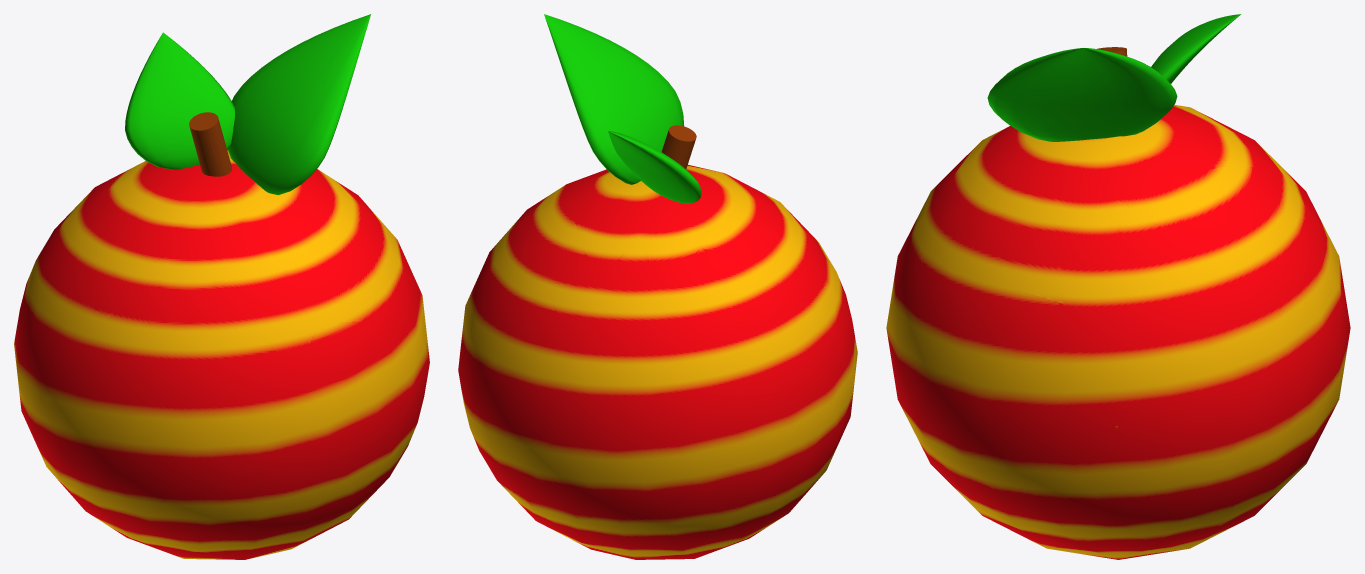
Rendered from fruit.fbx.
The picture shows the model from 3 angles, left to right: view 1: azimuth 30°, elevation 25°; view 2: azimuth 150°, elevation 25°; view 3: azimuth 270°, elevation 25°; orthographic projection. The views are drawn at different scales.
Parts seen in each view (by area): view 1: Icosphere, BakeLeaf_Plane.002, BakeLeaf_Plane.001, Cylinder; view 2: Icosphere, BakeLeaf_Plane.002, BakeLeaf_Plane.001, Cylinder; view 3: Icosphere, BakeLeaf_Plane.002, BakeLeaf_Plane.001.
Part boxes in pixels (bbox=[...]): Icosphere: bbox=[14, 150, 429, 559]; BakeLeaf_Plane.002: bbox=[228, 14, 370, 195]; BakeLeaf_Plane.001: bbox=[125, 32, 234, 169]; Cylinder: bbox=[189, 112, 232, 176]; Icosphere: bbox=[458, 165, 857, 559]; BakeLeaf_Plane.002: bbox=[544, 14, 684, 184]; BakeLeaf_Plane.001: bbox=[608, 131, 701, 203]; Cylinder: bbox=[661, 125, 696, 169]; Icosphere: bbox=[886, 105, 1350, 559]; BakeLeaf_Plane.002: bbox=[987, 48, 1177, 141]; BakeLeaf_Plane.001: bbox=[1151, 14, 1240, 83].
Size of the model in its own units: 200 by 268 by 200.
